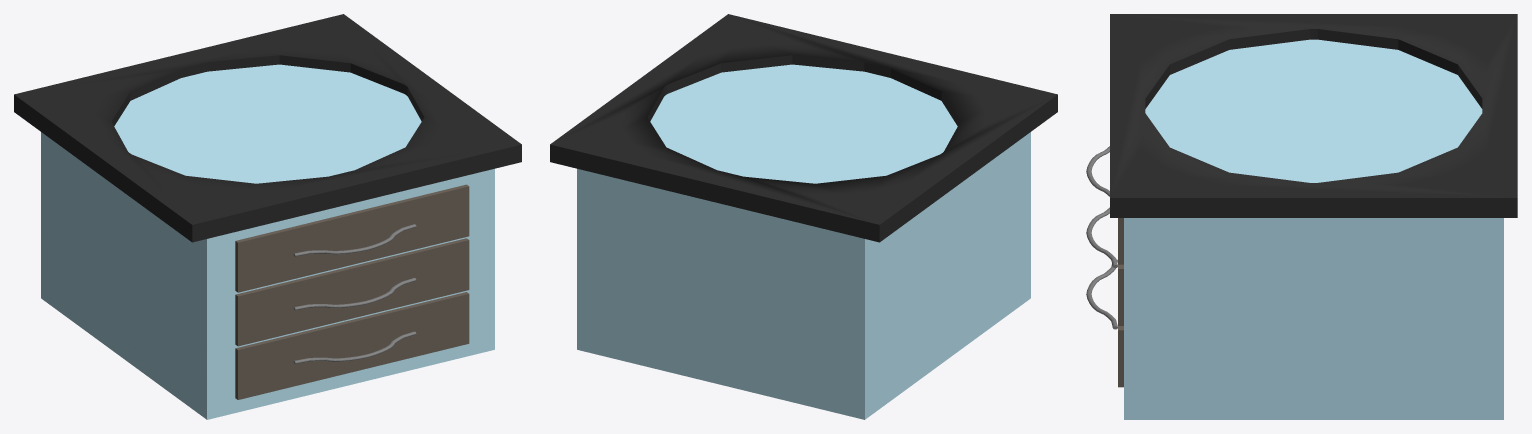
File: DeliveryPoint.fbx
The picture shows the model from 3 angles, left to right: view 1: azimuth 30°, elevation 25°; view 2: azimuth 150°, elevation 25°; view 3: azimuth 270°, elevation 25°; orthographic projection. The views are drawn at different scales.
Visible parts, largest first — view 1: DeliveryPoint; view 2: DeliveryPoint; view 3: DeliveryPoint.
Boxes of the visible parts, left/top/right/bottom form: DeliveryPoint: left=14, top=14, right=521, bottom=419; DeliveryPoint: left=550, top=14, right=1057, bottom=419; DeliveryPoint: left=1086, top=14, right=1517, bottom=419.
Size of the model in its own units: 183 by 109 by 185.
